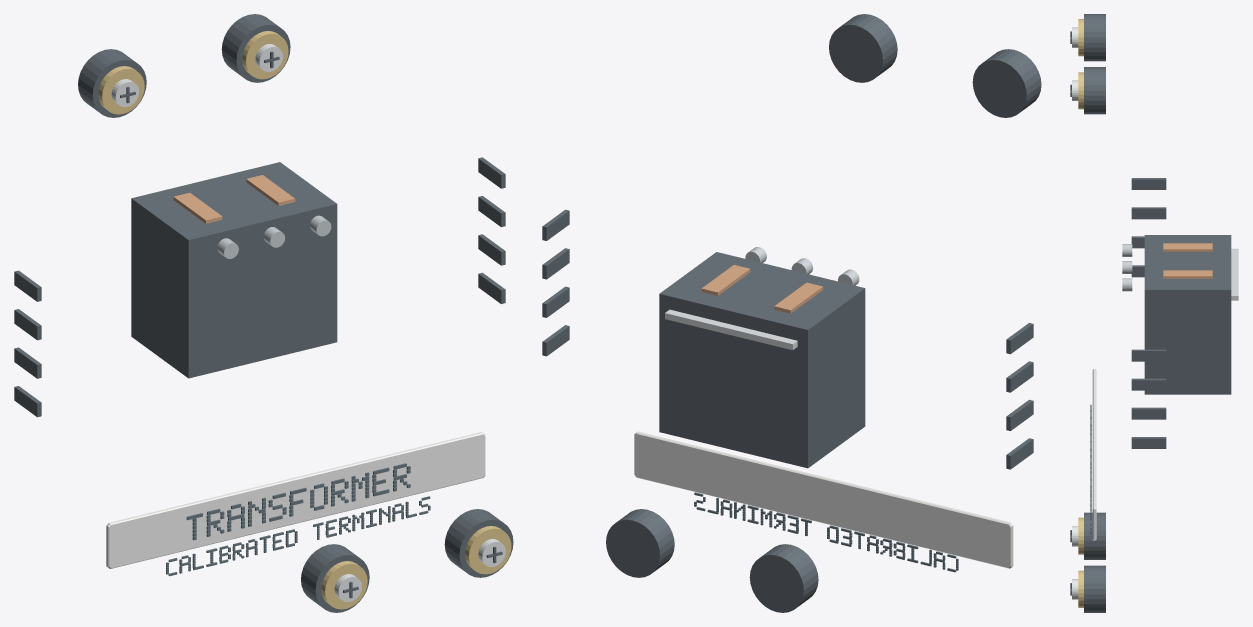
Rendered from transformer.glb.
3 renders of one model, left to right at view 1: azimuth 30°, elevation 25°; view 2: azimuth 150°, elevation 25°; view 3: azimuth 270°, elevation 25°, orthographic. The views are drawn at different scales.
Parts seen in each view (by area): view 1: transformer-detailed; view 2: transformer-detailed; view 3: transformer-detailed.
Part boxes in pixels (left/top/right/bottom): transformer-detailed: left=14, top=14, right=513, bottom=612; transformer-detailed: left=542, top=14, right=1041, bottom=612; transformer-detailed: left=1070, top=14, right=1238, bottom=612.
Size of the model in its own units: 2.71 by 3.36 by 1.11.
